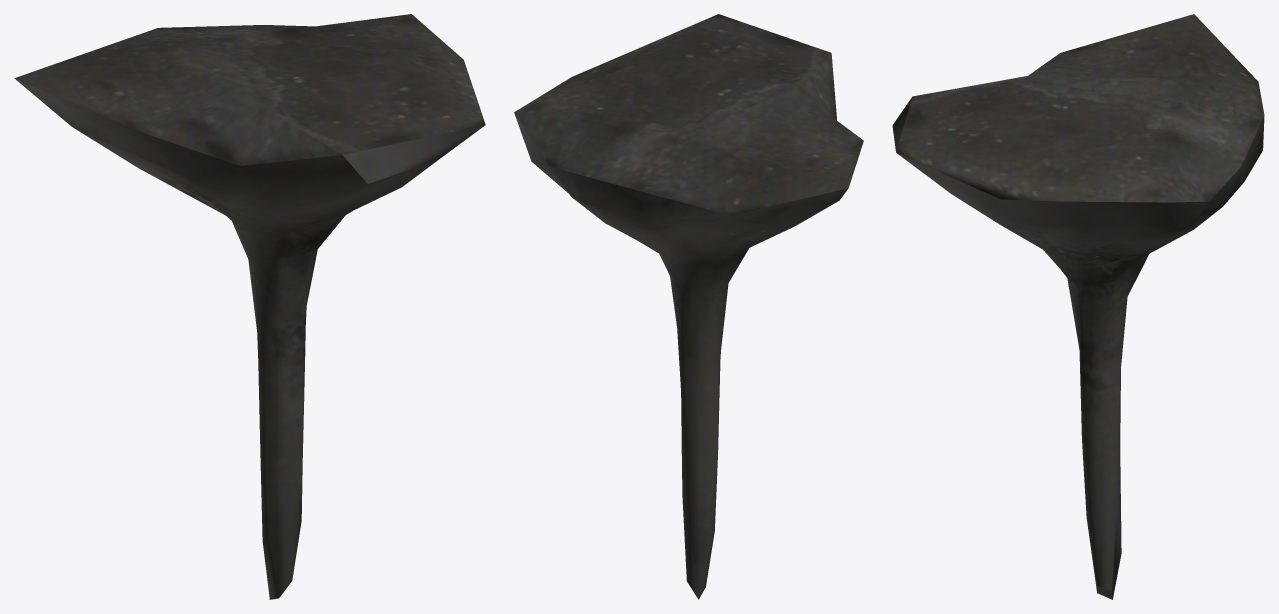
The model's file is rock_forest_stalgamite02.DAE.
3 views of the same model, side by side, from view 1: azimuth 30°, elevation 25°; view 2: azimuth 150°, elevation 25°; view 3: azimuth 270°, elevation 25° (orthographic). The views are drawn at different scales.
Visible parts, largest first — view 1: Object002; view 2: Object002; view 3: Object002.
Boxes of the visible parts, x1,y1,x2,y2 form: Object002: [14, 14, 485, 599]; Object002: [514, 14, 863, 599]; Object002: [892, 14, 1264, 599].
Size of the model in its own units: 0.9707 by 1.32 by 0.8938.
